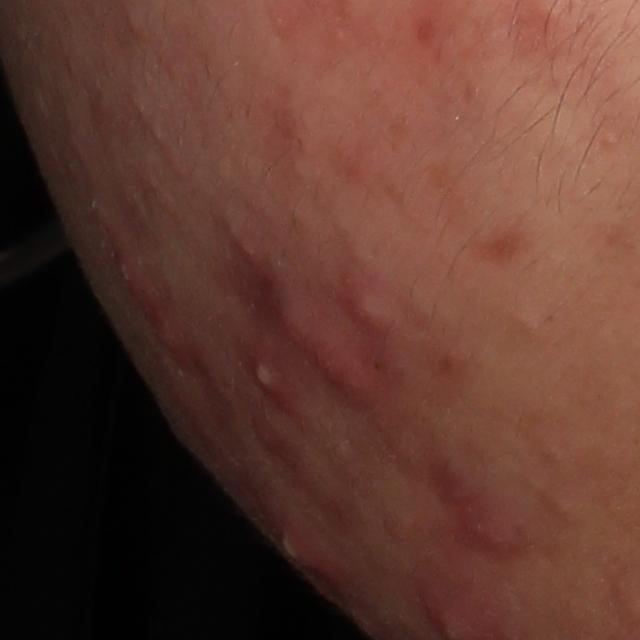comedo: (550, 495, 576, 518)
papule: (268, 262, 375, 409), (432, 442, 548, 560), (341, 281, 402, 360), (110, 249, 152, 302), (154, 316, 196, 367)
pustule: (236, 349, 299, 418), (280, 516, 333, 581)
